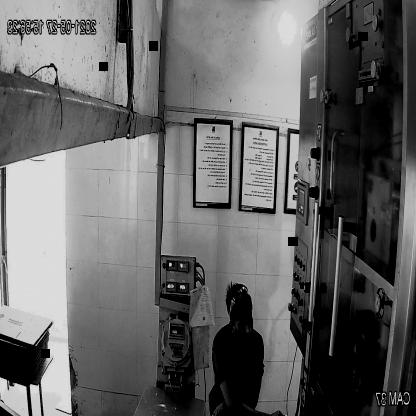no_goggles: (231, 312, 256, 334)
